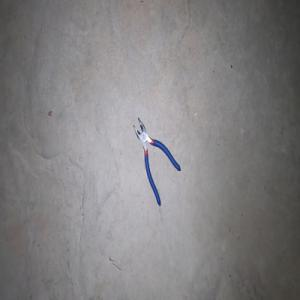Pliers: (132, 117, 180, 206)
